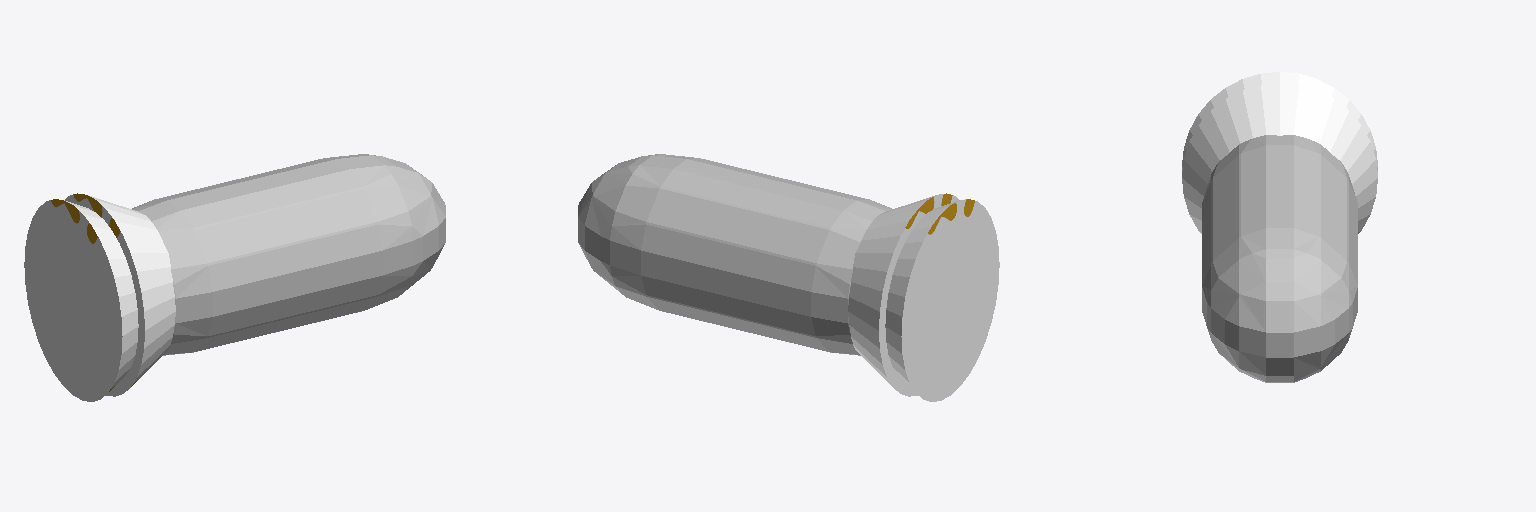
3 views of the same model, side by side, from view 1: azimuth 30°, elevation 25°; view 2: azimuth 150°, elevation 25°; view 3: azimuth 270°, elevation 25° (orthographic).
Visible parts, largest first — view 1: Mball, Cone; view 2: Mball, Cone; view 3: Mball, Cone.
Boxes of the visible parts, x1,y1,x2,y2 form: Mball: [132, 154, 445, 355]; Cone: [24, 193, 175, 401]; Mball: [578, 154, 891, 355]; Cone: [848, 193, 999, 401]; Mball: [1202, 135, 1357, 382]; Cone: [1182, 72, 1377, 233].
Size of the model in its own units: 4.3 by 2.14 by 2.
Materials: 2 (2 with a texture image).